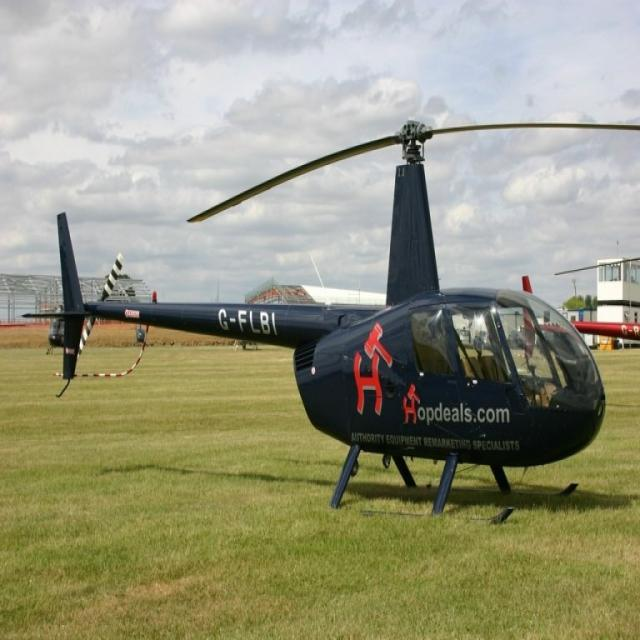CIV_HELO: (20, 117, 610, 538)
